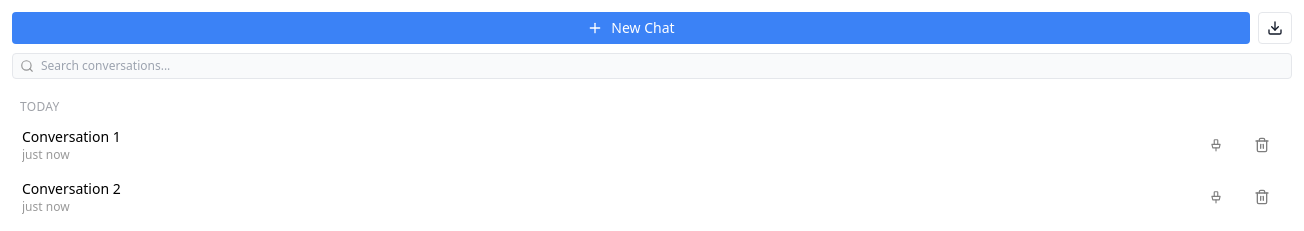
Global Search › shows 'No results found' when search returns empty
Type "nonexistent" into the field with test id "conversation-search" at (652, 66), box left=12, top=53, right=1292, bottom=79
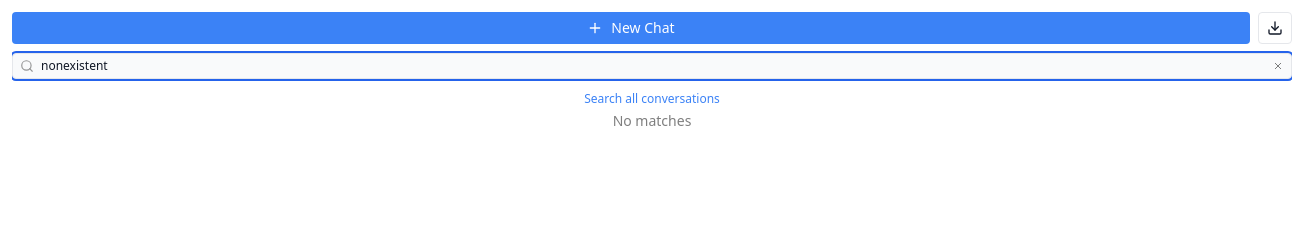
Now the button with test id "global-search-button" is shown
Click the button with test id "global-search-button" at (652, 99), box left=12, top=87, right=1292, bottom=111
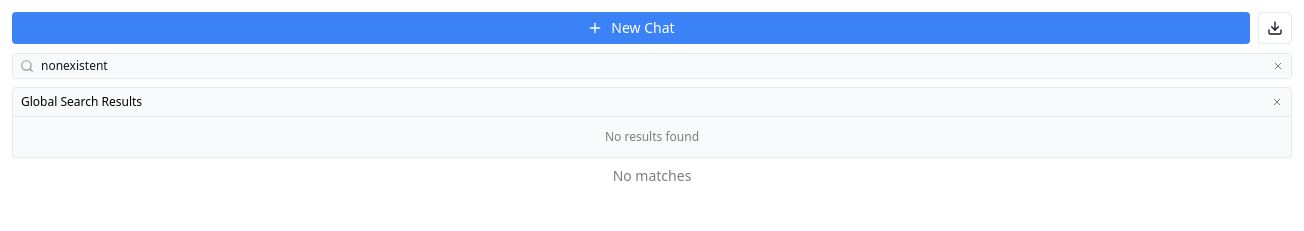
Now the text "No results found" is shown, box left=605, top=128, right=699, bottom=145
